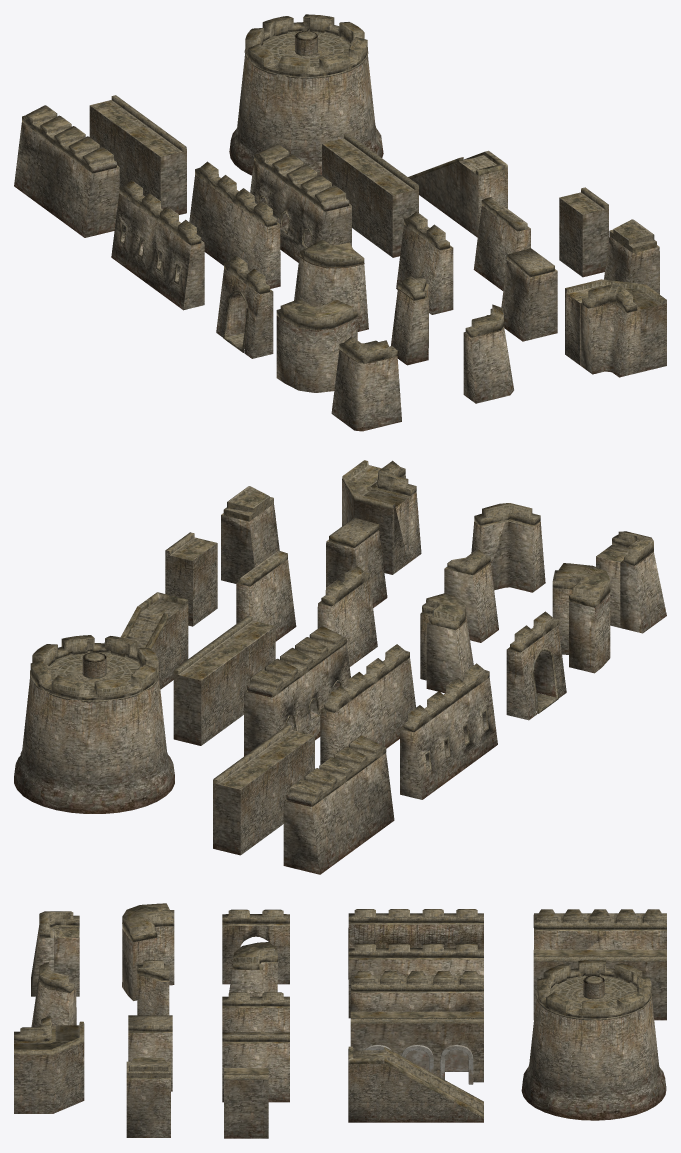
Rendered from modular_fort_01.glb.
3 views of the same model, one above another, from view 1: azimuth 30°, elevation 25°; view 2: azimuth 150°, elevation 25°; view 3: azimuth 270°, elevation 25° (orthographic). The views are drawn at different scales.
Parts seen in each view (by area): view 1: modular_fort_01_wall_thick_corner_02; view 2: modular_fort_01_wall_thick_corner_02; view 3: modular_fort_01_wall_thick_corner_02, modular_fort_01_wall_walkway_straight_01.
Boxes of the visible parts, box(x1,y1,x2,y2) form: modular_fort_01_wall_thick_corner_02: box(14, 14, 666, 431); modular_fort_01_wall_thick_corner_02: box(14, 460, 666, 874); modular_fort_01_wall_thick_corner_02: box(14, 903, 666, 1138); modular_fort_01_wall_walkway_straight_01: box(365, 1045, 473, 1084).
Size of the model in its own units: 42.66 by 13.58 by 71.38.
Materials: 3 (3 with a texture image).
